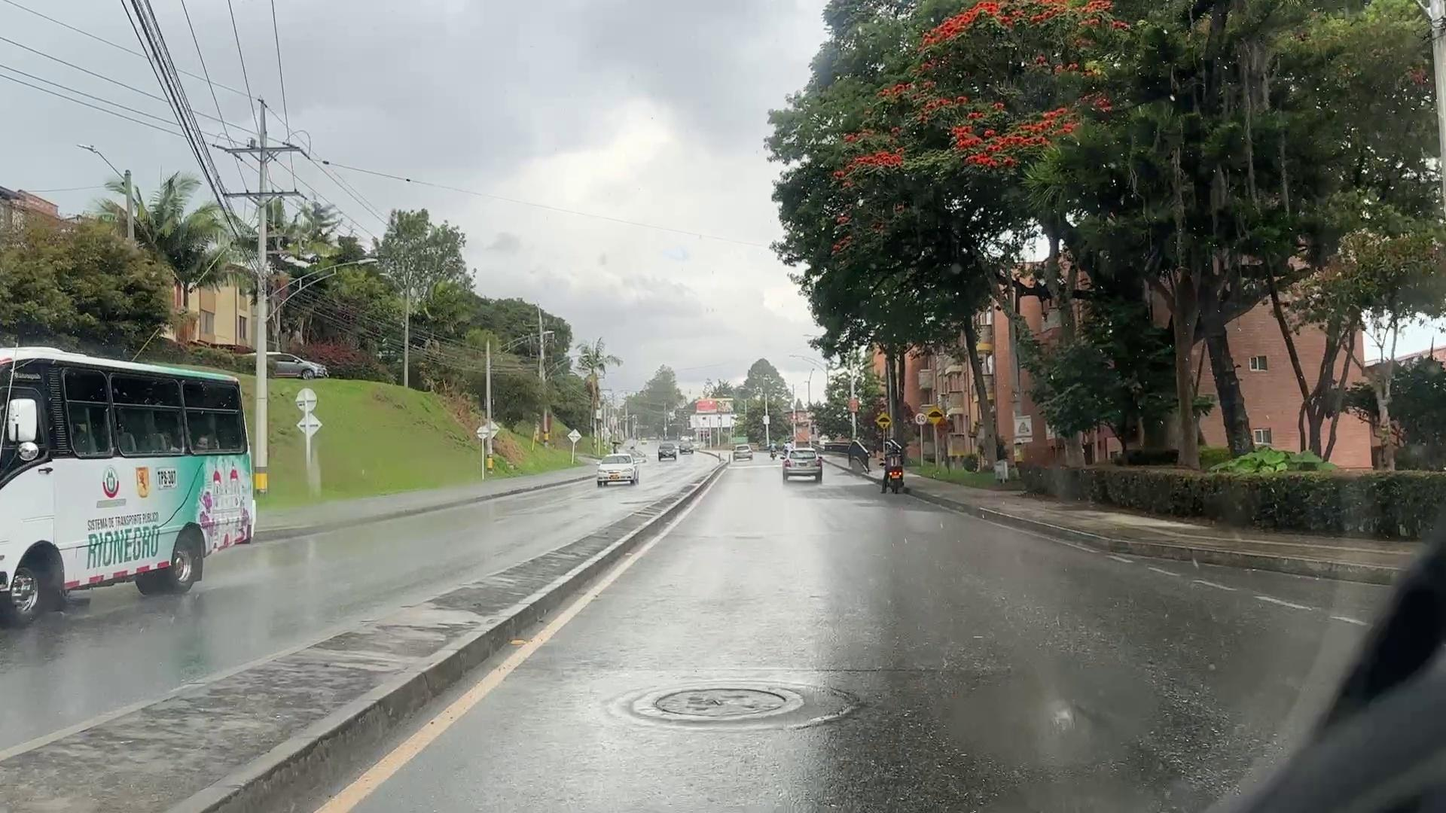registro: (656, 688, 785, 716)
